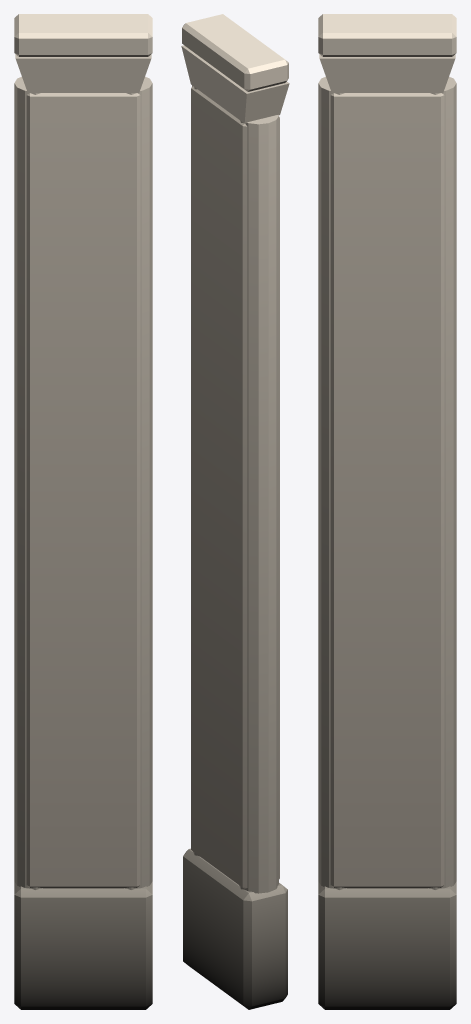
The model's file is SM_VKI_Post_Ashlar_Mid_Full.fbx.
3 views of the same model, side by side, from view 1: azimuth 90°, elevation 25°; view 2: azimuth 210°, elevation 25°; view 3: azimuth 270°, elevation 25° (orthographic). The views are drawn at different scales.
Visible parts, largest first — view 1: SM_VKI_Post_Ashlar_Mid_Full.001; view 2: SM_VKI_Post_Ashlar_Mid_Full.001; view 3: SM_VKI_Post_Ashlar_Mid_Full.001.
Boxes of the visible parts, <box> form: SM_VKI_Post_Ashlar_Mid_Full.001: <box>14,14,152,1009</box>; SM_VKI_Post_Ashlar_Mid_Full.001: <box>181,14,289,1009</box>; SM_VKI_Post_Ashlar_Mid_Full.001: <box>318,14,456,1009</box>.
Size of the model in its own units: 0.24 by 4.84 by 0.62.
